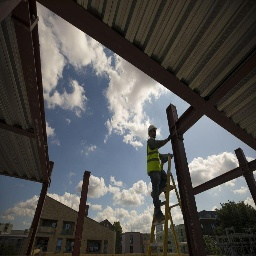person: (144, 123, 170, 225)
vest: (146, 139, 164, 177)
